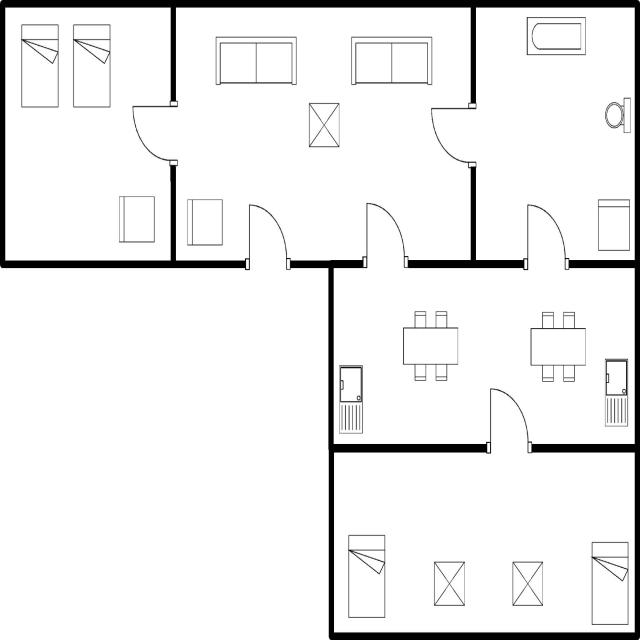bed: (69, 19, 115, 113), (588, 536, 632, 627), (18, 21, 61, 112), (345, 531, 388, 622)
coffee_table: (399, 303, 463, 385), (526, 306, 590, 386), (429, 555, 469, 613), (508, 556, 547, 612), (304, 98, 344, 152)
large_sink: (602, 92, 632, 138)
large_sofa: (211, 31, 300, 90), (348, 31, 438, 89)
sink: (600, 354, 632, 430), (336, 361, 365, 436)
small_sofa: (114, 190, 157, 246), (183, 194, 226, 250), (594, 196, 632, 255)
tub: (523, 10, 590, 60)
